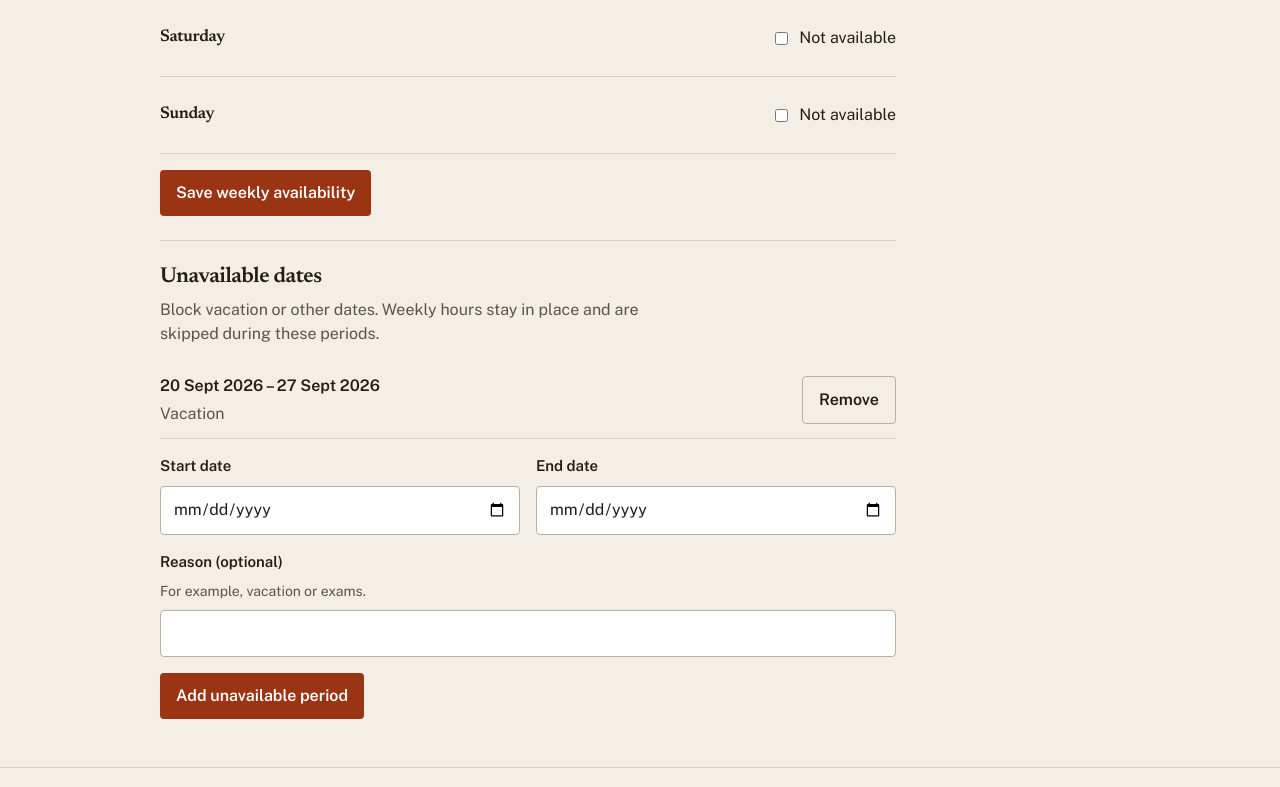
it: Student availability page › confirms removal of an unavailable period
(page scrolled)
Expected: the text "Vacation" is shown, [160, 404, 224, 423]
Click the button "Remove": click(849, 400) [802, 376, 896, 424]
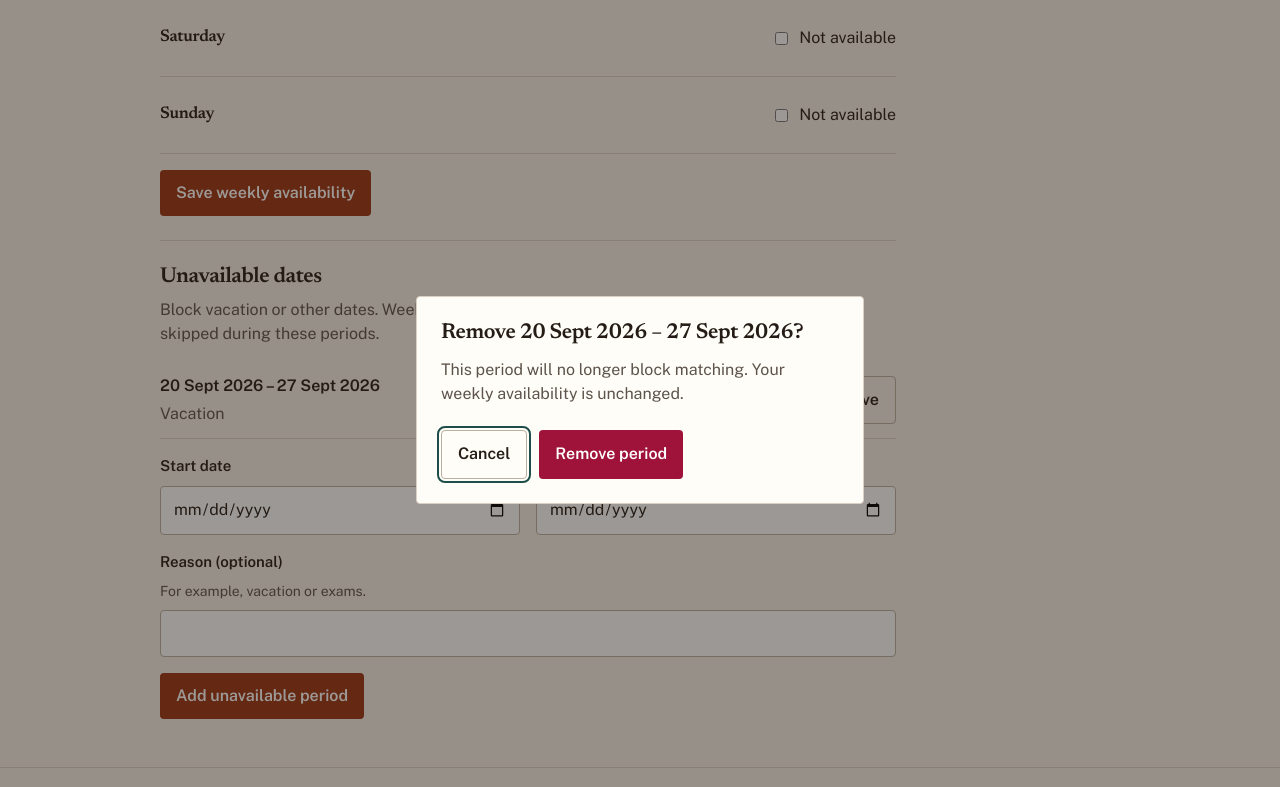
Expected: the dialog is shown, [416, 296, 864, 504]
Click the button "Remove period": click(611, 454) [539, 430, 683, 479]
(page scrolled)
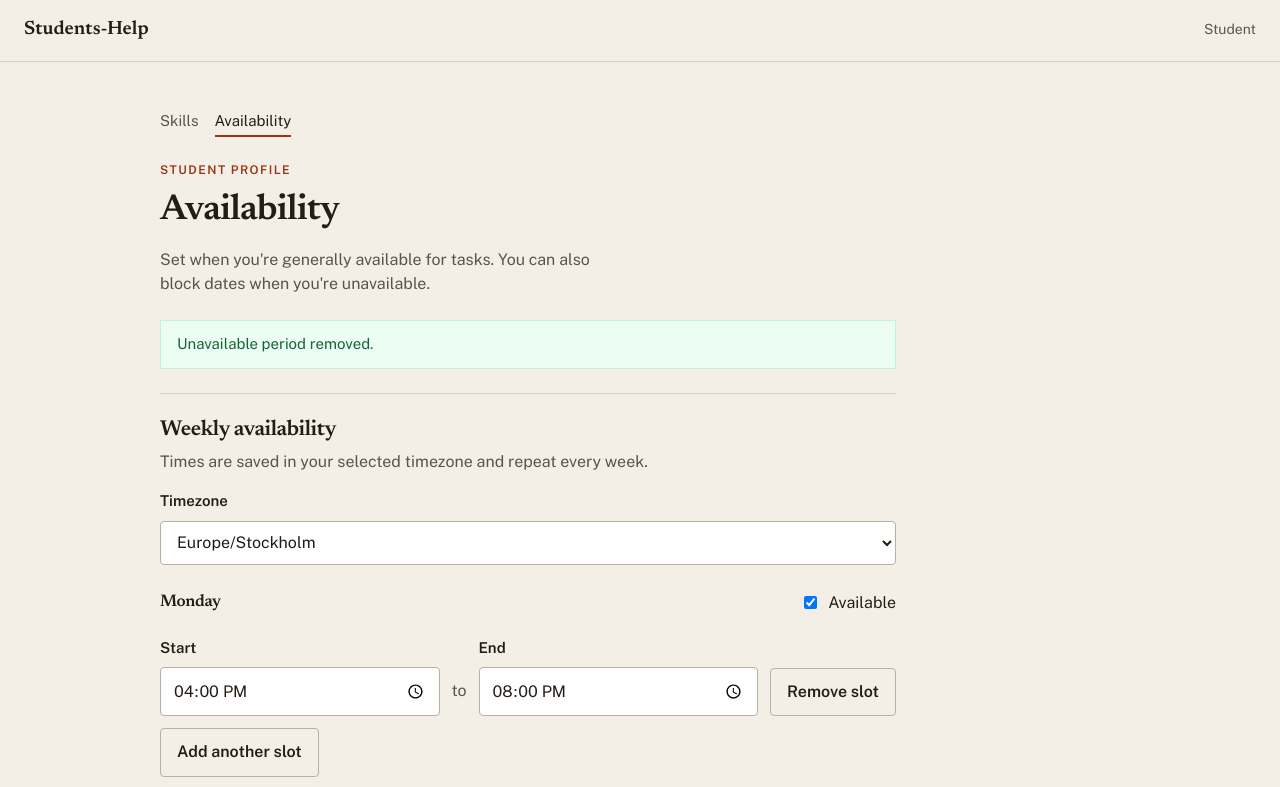
Expected: the text "Vacation" is not shown
Expected: the text "Unavailable period removed." is shown, [160, 320, 896, 369]
